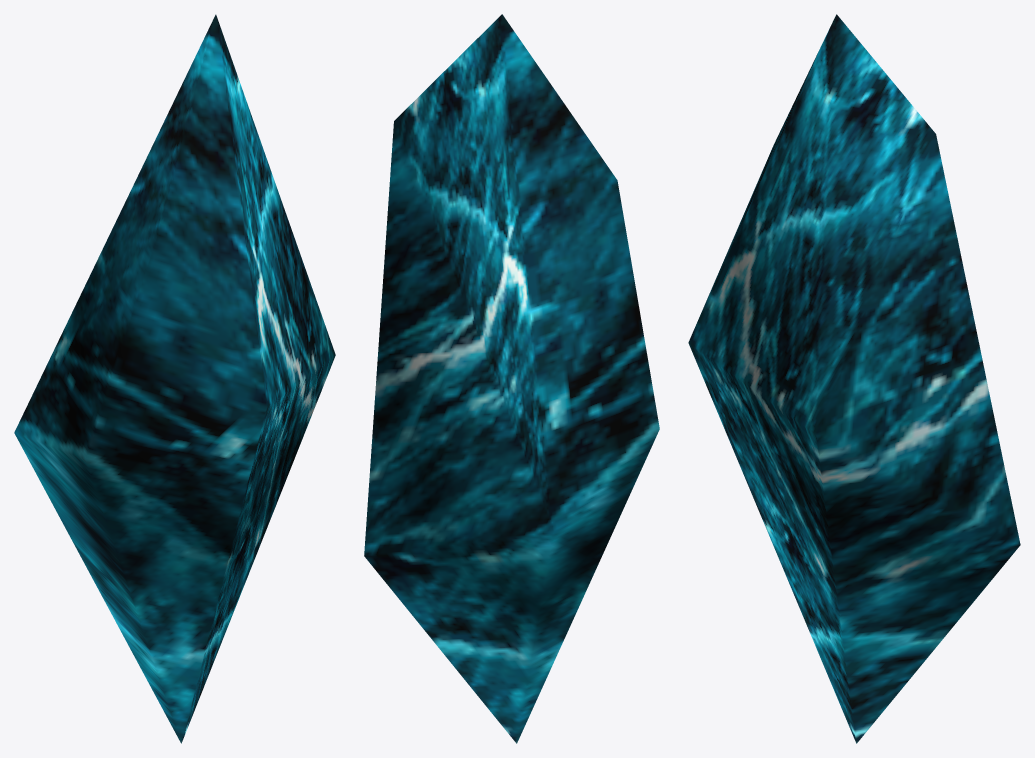
File: c_Cris1b.glb
3 views of the same model, side by side, from view 1: azimuth 30°, elevation 25°; view 2: azimuth 150°, elevation 25°; view 3: azimuth 270°, elevation 25° (orthographic). The views are drawn at different scales.
Parts seen in each view (by area): view 1: c_Cris1b-col; view 2: c_Cris1b-col; view 3: c_Cris1b-col.
Boxes of the visible parts, bbox=[...] form: c_Cris1b-col: bbox=[14, 14, 335, 743]; c_Cris1b-col: bbox=[364, 14, 659, 743]; c_Cris1b-col: bbox=[688, 14, 1020, 743].
Size of the model in its own units: 0.2025 by 0.5537 by 0.2246.
Materials: 1 (1 with a texture image).
